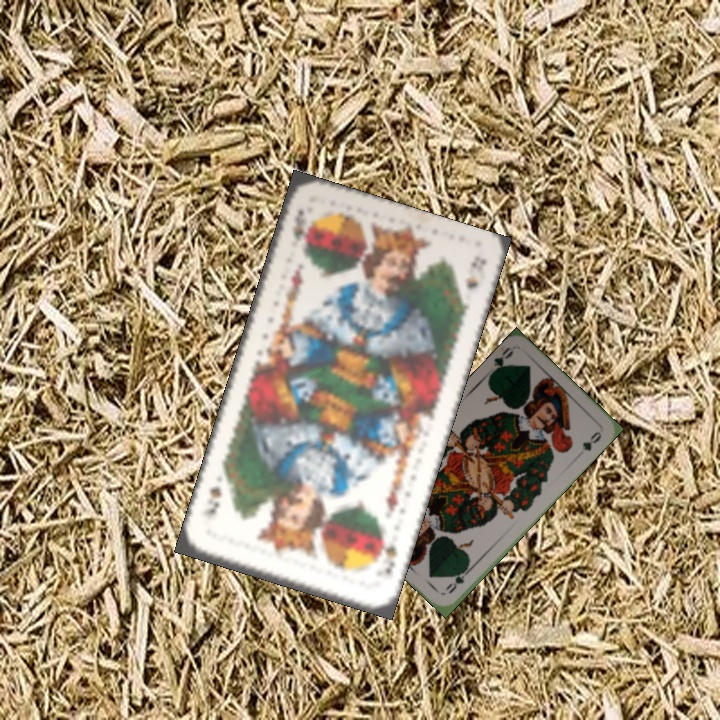GO: (441, 562, 474, 596), (486, 343, 516, 378)
SK: (373, 529, 401, 578), (287, 205, 313, 242)
